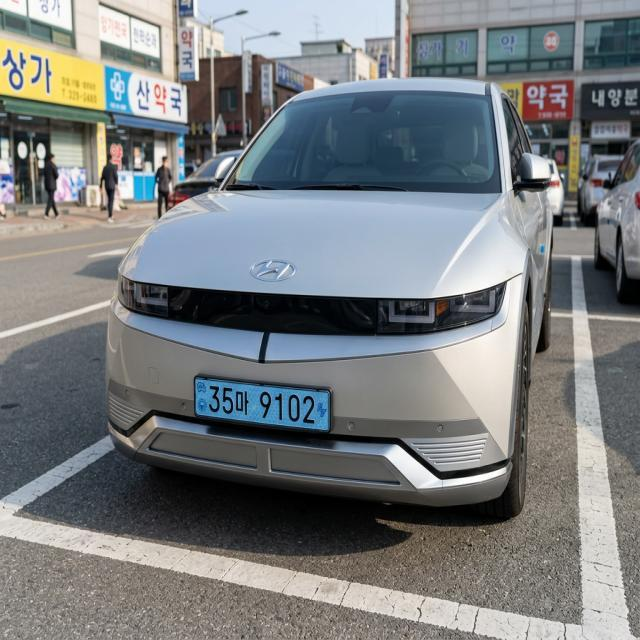car: (180, 365, 355, 450)
carev: (314, 384, 335, 438), (193, 375, 207, 423)
